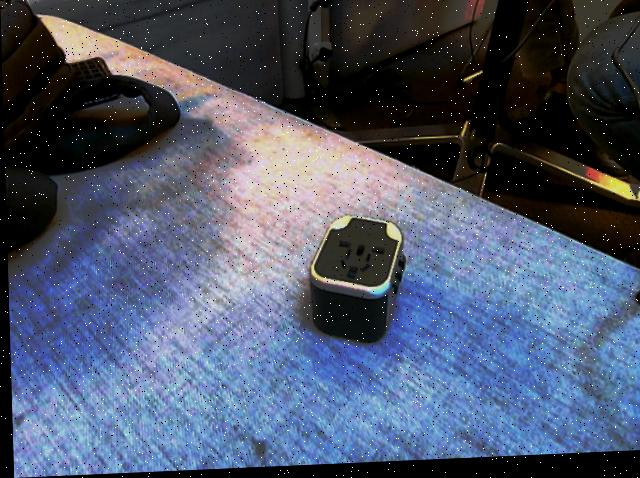adapter: (304, 217, 405, 349)
